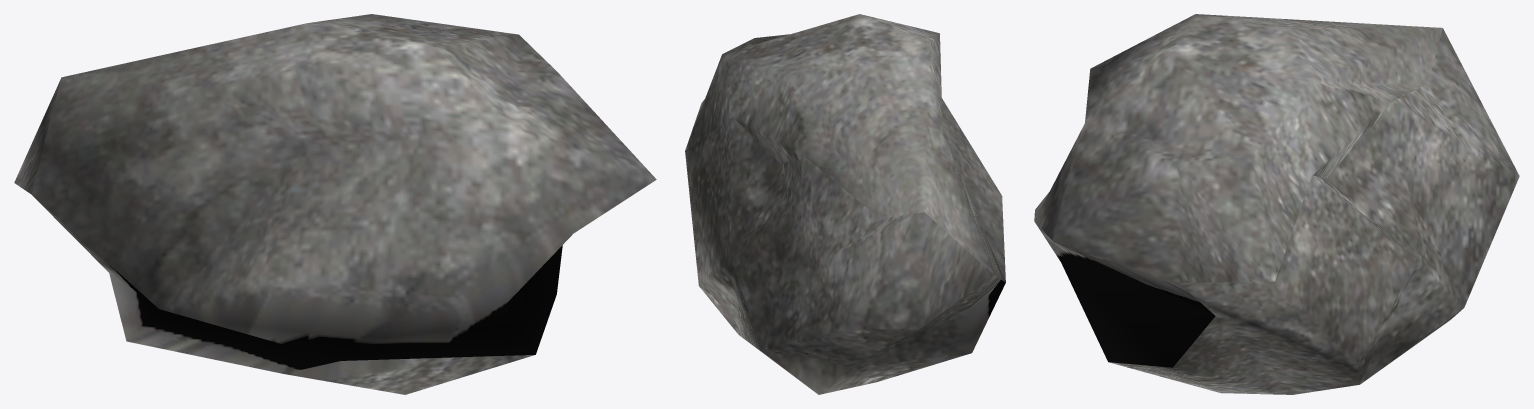
The model's file is asteroid5.fbx.
The picture shows the model from 3 angles, left to right: view 1: azimuth 30°, elevation 25°; view 2: azimuth 150°, elevation 25°; view 3: azimuth 270°, elevation 25°; orthographic projection. The views are drawn at different scales.
Visible parts, largest first — view 1: PipelineFBX; view 2: PipelineFBX; view 3: PipelineFBX.
Boxes of the visible parts, x1,y1,x2,y2 form: PipelineFBX: (14,14,656,394); PipelineFBX: (685,14,1005,394); PipelineFBX: (1034,14,1519,394).
Size of the model in its own units: 207 by 153 by 198.
Materials: 1 (1 with a texture image).
